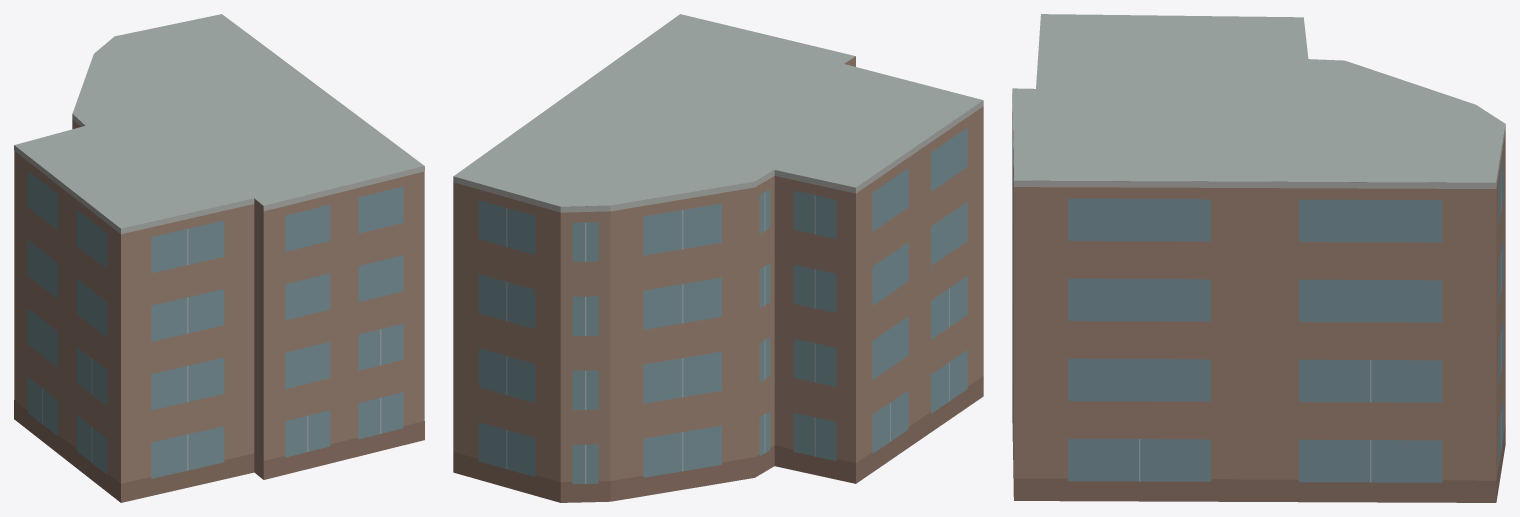
File: survey-upis-32626042.glb
The picture shows the model from 3 angles, left to right: view 1: azimuth 30°, elevation 25°; view 2: azimuth 150°, elevation 25°; view 3: azimuth 270°, elevation 25°; orthographic projection. The views are drawn at different scales.
Visible parts, largest first — view 1: survey-upis-32626042.tmp; view 2: survey-upis-32626042.tmp; view 3: survey-upis-32626042.tmp.
Boxes of the visible parts, bbox=[...] form: survey-upis-32626042.tmp: bbox=[14, 14, 424, 502]; survey-upis-32626042.tmp: bbox=[453, 14, 983, 502]; survey-upis-32626042.tmp: bbox=[1012, 14, 1505, 502].
Size of the model in its own units: 13.79 by 12.2 by 17.04.
